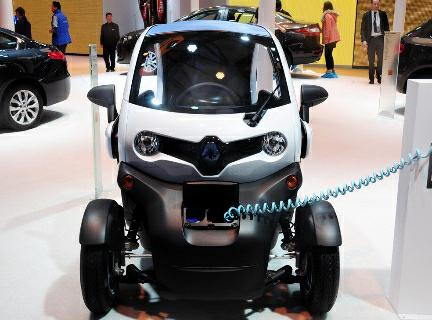雷诺-Twizy: (78, 15, 347, 315)
